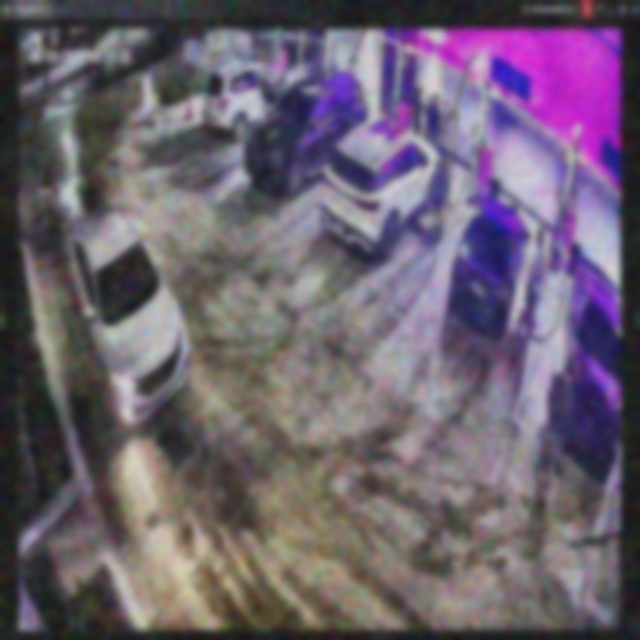Car: (66, 204, 190, 421), (322, 119, 439, 263), (244, 70, 369, 194), (448, 192, 529, 339)
